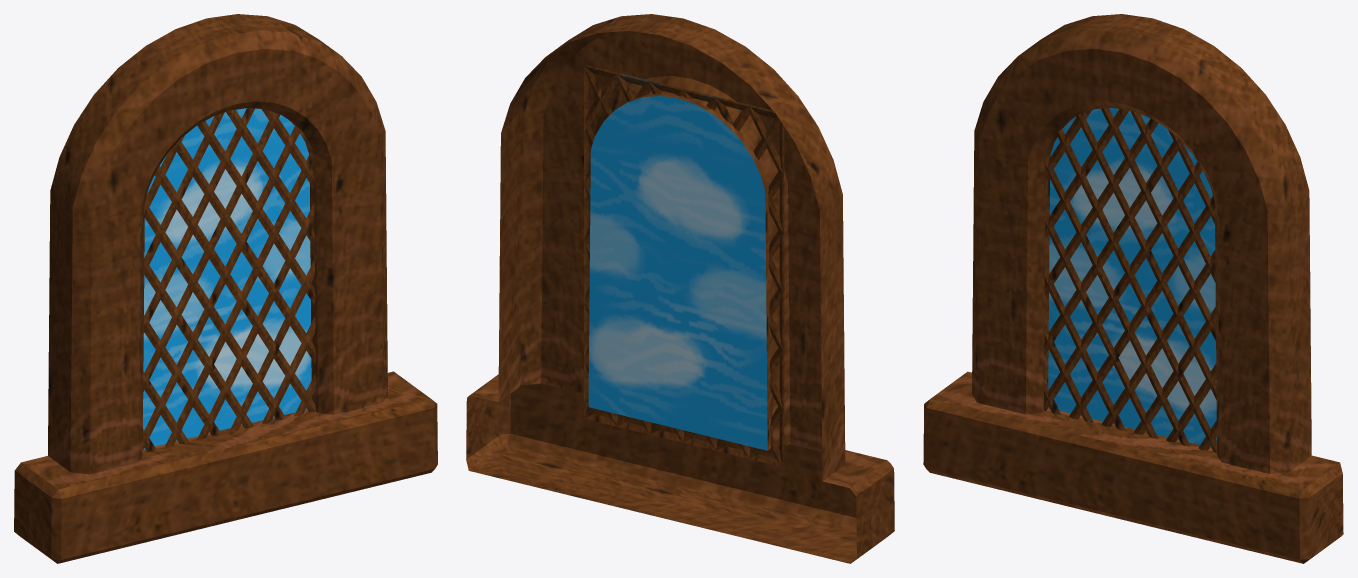
The model's file is Janela com grade.fbx.
The picture shows the model from 3 angles, left to right: view 1: azimuth 30°, elevation 25°; view 2: azimuth 150°, elevation 25°; view 3: azimuth 330°, elevation 25°; orthographic projection. The views are drawn at different scales.
Parts seen in each view (by area): view 1: Plane; view 2: Plane; view 3: Plane.
Part boxes in pixels (left/top/right/bottom): Plane: left=14, top=14, right=437, bottom=563; Plane: left=466, top=14, right=894, bottom=563; Plane: left=923, top=14, right=1343, bottom=563.
Size of the model in its own units: 493 by 576 by 90.11.
Materials: 1 (1 with a texture image).
